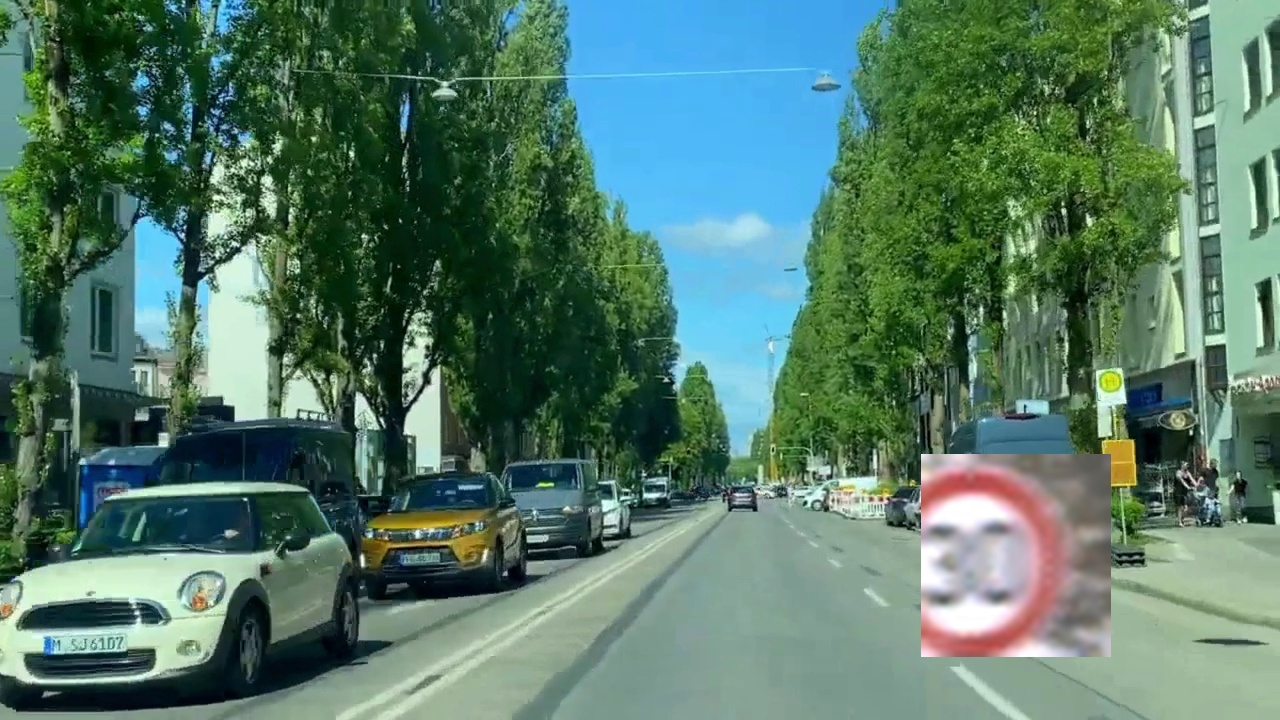Speed 30: (921, 454, 1111, 657)
